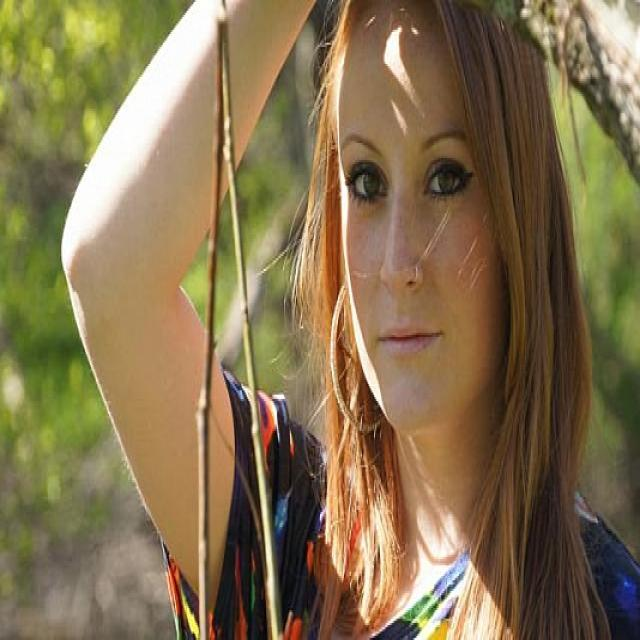Eyes: (328, 134, 484, 226)
